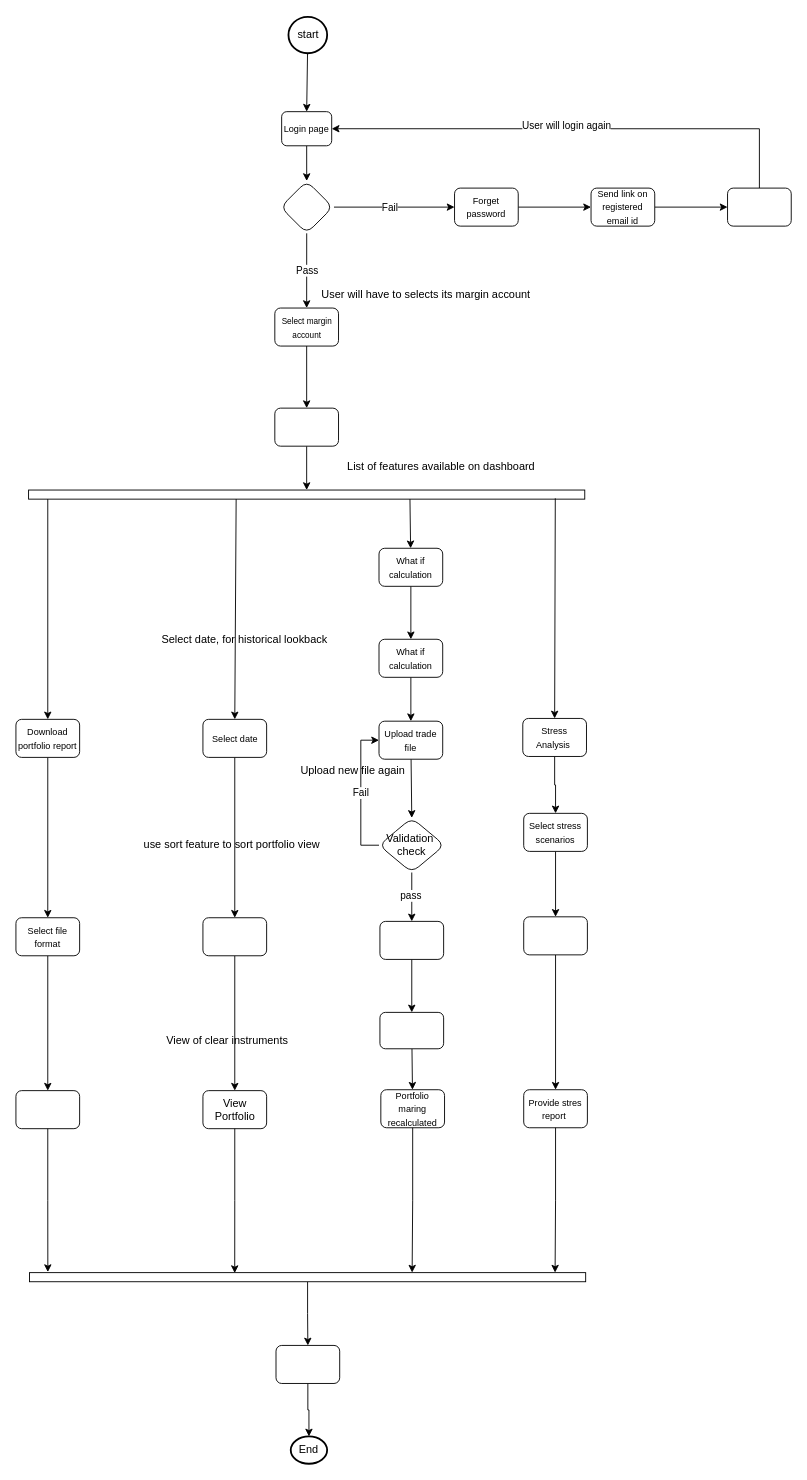
The diagram is 807 pixels wide and 1480 high, and some of its shapes have lost their labels. The shapes that lost their labels are listed below. From the top down, each one's centre as x and y in pixels, then its label:
At pixel 306 206: "Credentials".
At pixel 759 206: "Password channged".
At pixel 306 426: "Main dashboard".
At pixel 234 936: "Sort feature".
At pixel 411 939: "file uploaded".
At pixel 555 935: "Run Stress simulations".
At pixel 411 1030: "Click on run simulation".
At pixel 47 1109: "Select location".
At pixel 307 1364: "Log out".
